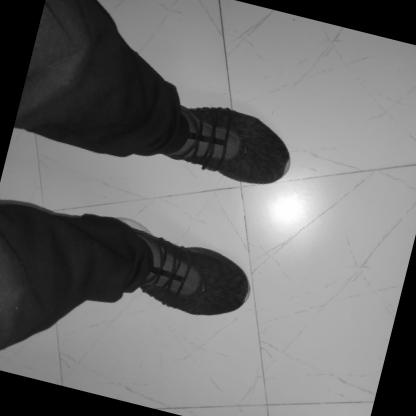ankle: (139, 235, 144, 240), (182, 142, 186, 145)
heel: (168, 153, 172, 158), (118, 218, 123, 222)
left_foot: (165, 98, 302, 195)
pinky: (271, 135, 276, 141), (205, 311, 211, 316)
right_foot: (98, 217, 262, 329)
toe: (236, 270, 243, 277), (263, 176, 270, 181)
